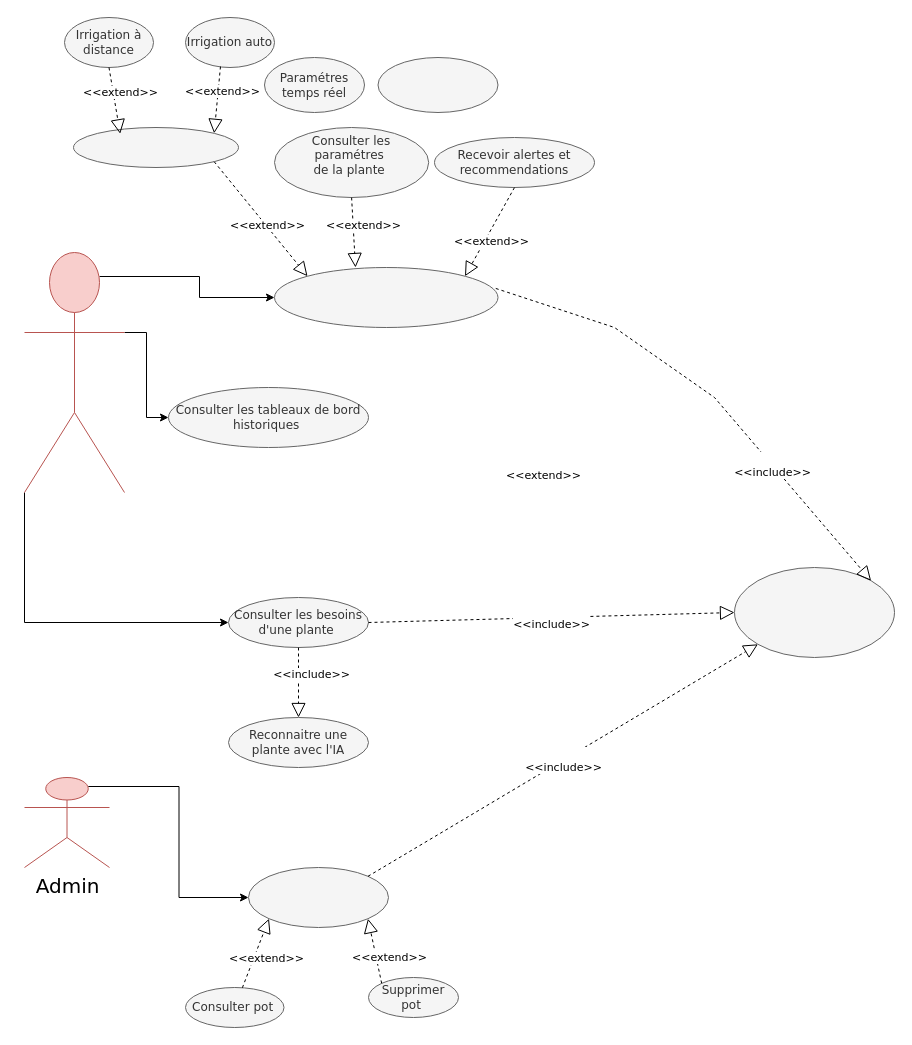
Image size: 912x1045. Some labels were removed from this diagram. The box of each missing label's shape, as (x1, y1, x2, y2) in pixels:
Client: (24, 252, 124, 492)
Déclencher l'irrigation: (72, 126, 238, 168)
Gérer les pots connectées coté admin: (248, 866, 388, 928)
Gérer ses pots connectés: (274, 266, 498, 328)
Paramétres prévus à 15 min: (377, 56, 498, 112)
S'authentifier: (734, 566, 894, 658)
